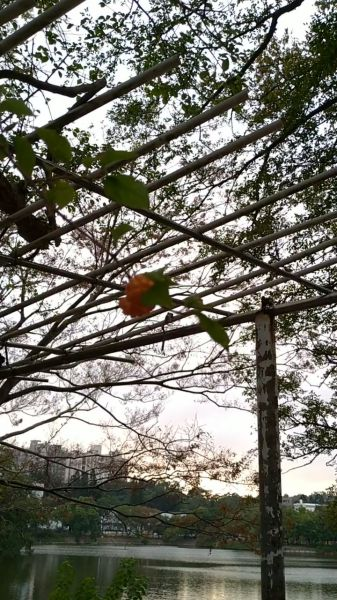eggs: (113, 270, 161, 327)
